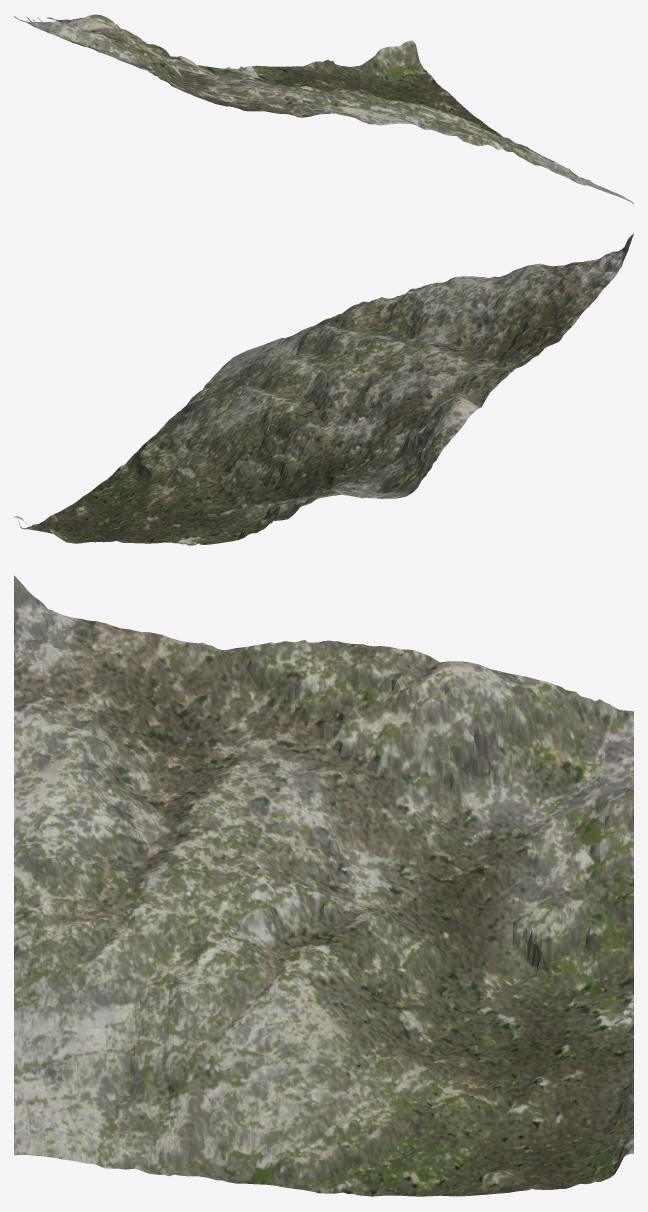
3 views of the same model, one above another, from view 1: azimuth 30°, elevation 25°; view 2: azimuth 150°, elevation 25°; view 3: azimuth 270°, elevation 25° (orthographic). The views are drawn at different scales.
Size of the model in its own units: 500 by 300 by 481.
Materials: 1 (1 with a texture image).
